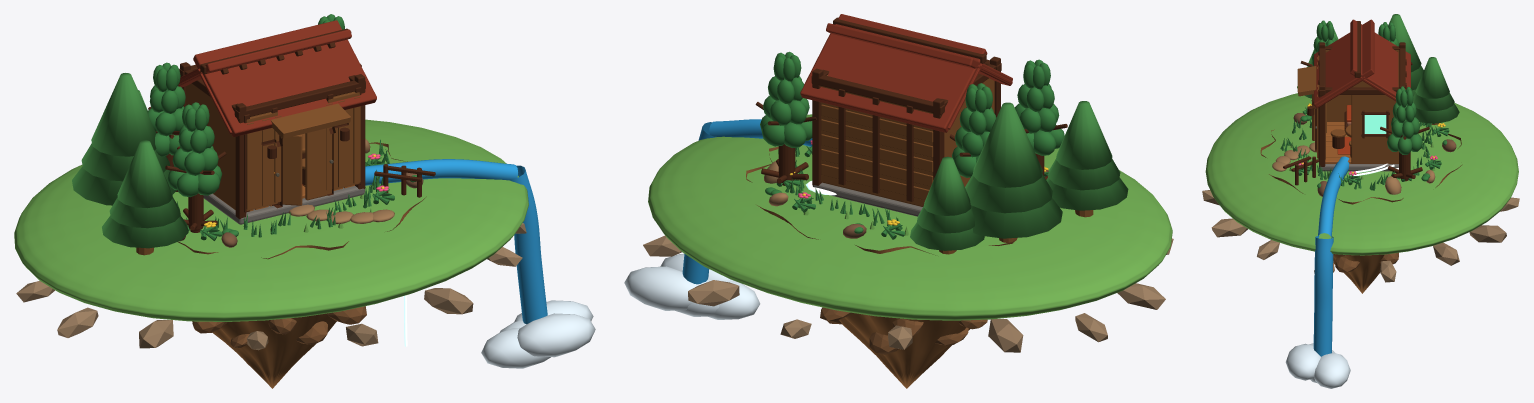
Rendered from FloatingIsland_Unity.fbx.
The picture shows the model from 3 angles, left to right: view 1: azimuth 30°, elevation 25°; view 2: azimuth 150°, elevation 25°; view 3: azimuth 270°, elevation 25°; orthographic projection. The views are drawn at different scales.
Parts seen in each view (by area): view 1: Unity_Island, Unity_Hut, Unity_Stream, Unity_Tree_B, Unity_Tree_A; view 2: Unity_Island, Unity_Hut, Unity_Tree_A, Unity_Tree_B, Unity_Tree_C, Unity_Stream; view 3: Unity_Island, Unity_Hut, Unity_Stream, Unity_Tree_C, Unity_Tree_A, Unity_Tree_B.
Boxes of the visible parts, bbox=[...] form: Unity_Island: bbox=[14, 119, 528, 388]; Unity_Hut: bbox=[178, 20, 435, 224]; Unity_Stream: bbox=[365, 159, 595, 368]; Unity_Tree_B: bbox=[102, 102, 226, 255]; Unity_Tree_A: bbox=[72, 62, 185, 205]; Unity_Island: bbox=[643, 114, 1173, 388]; Unity_Hut: bbox=[800, 14, 1012, 216]; Unity_Tree_A: bbox=[949, 83, 1062, 242]; Unity_Tree_B: bbox=[1014, 59, 1128, 217]; Unity_Tree_C: bbox=[755, 51, 984, 254]; Unity_Stream: bbox=[624, 119, 836, 319]; Unity_Island: bbox=[1202, 93, 1519, 293]; Unity_Hut: bbox=[1283, 19, 1410, 185]; Unity_Stream: bbox=[1285, 156, 1398, 388]; Unity_Tree_C: bbox=[1380, 57, 1459, 181]; Unity_Tree_A: bbox=[1378, 14, 1423, 96]; Unity_Tree_B: bbox=[1297, 20, 1338, 100].
Size of the model in its own units: 1145 by 725 by 823.
